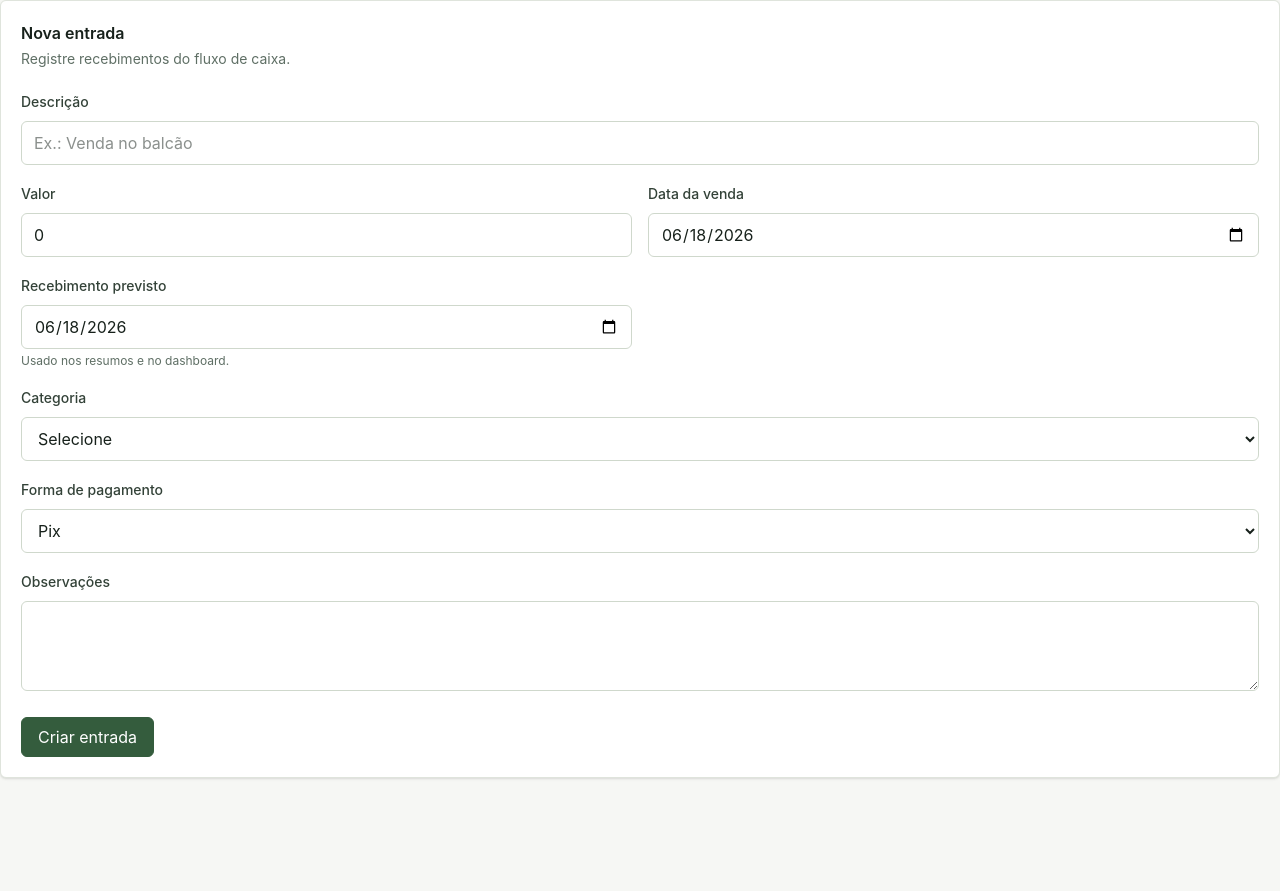
it: CashEntryForm › toggles card fee fields for CREDIT_CARD
Select "Cartão de crédito" in the dropdown labelled "Forma de pagamento": x=640, y=531 [21,509,1259,553]
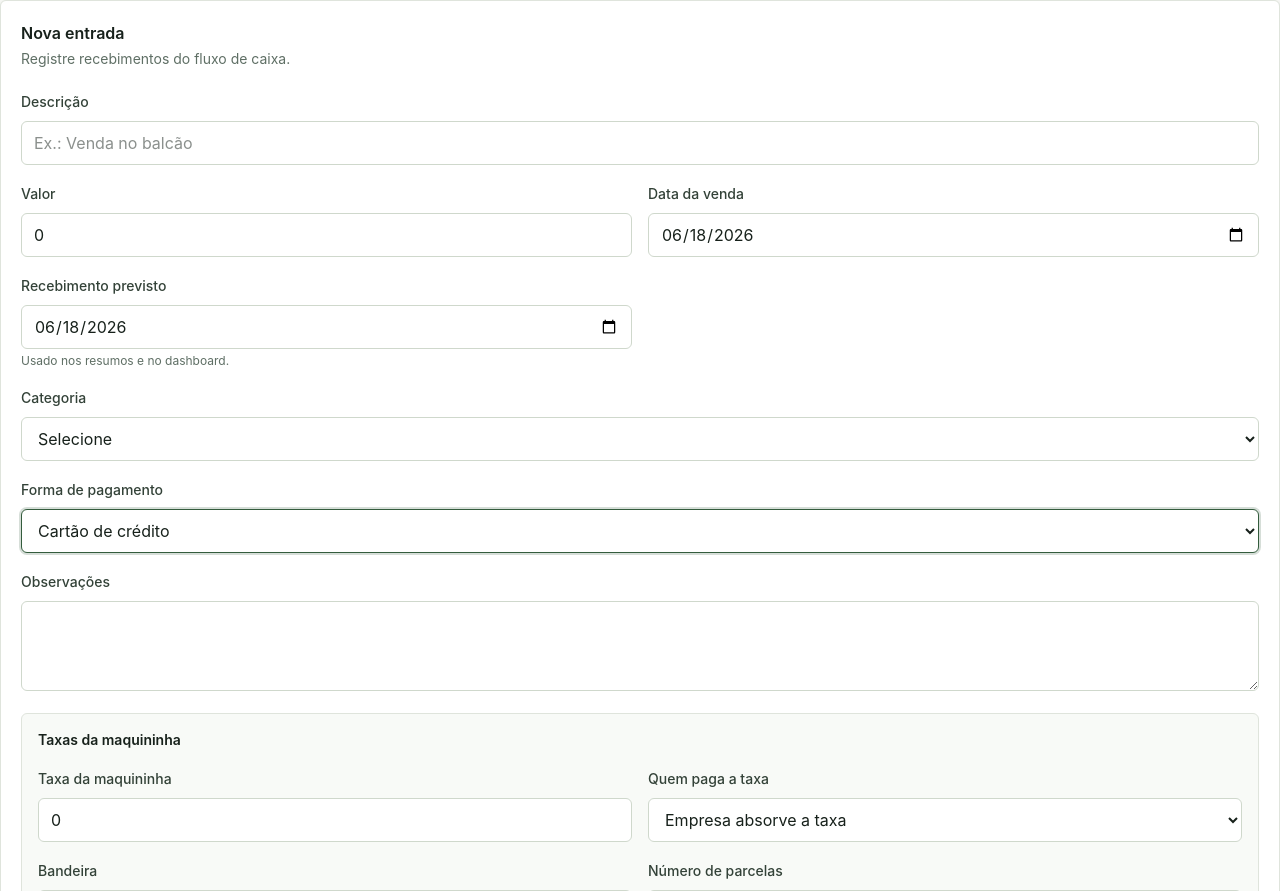
Check: the heading "Taxas da maquininha" is shown, box [38,731,181,748]
Check: the number field labelled "Taxa da maquininha" is shown, box [38,798,632,842]
Check: the dropdown labelled "Quem paga a taxa" is shown, box [648,798,1242,842]
